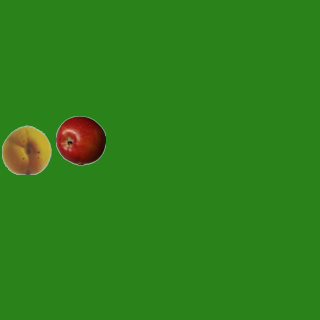Apple Braeburn: (55, 115, 105, 165)
Peach 2: (1, 124, 51, 174)
